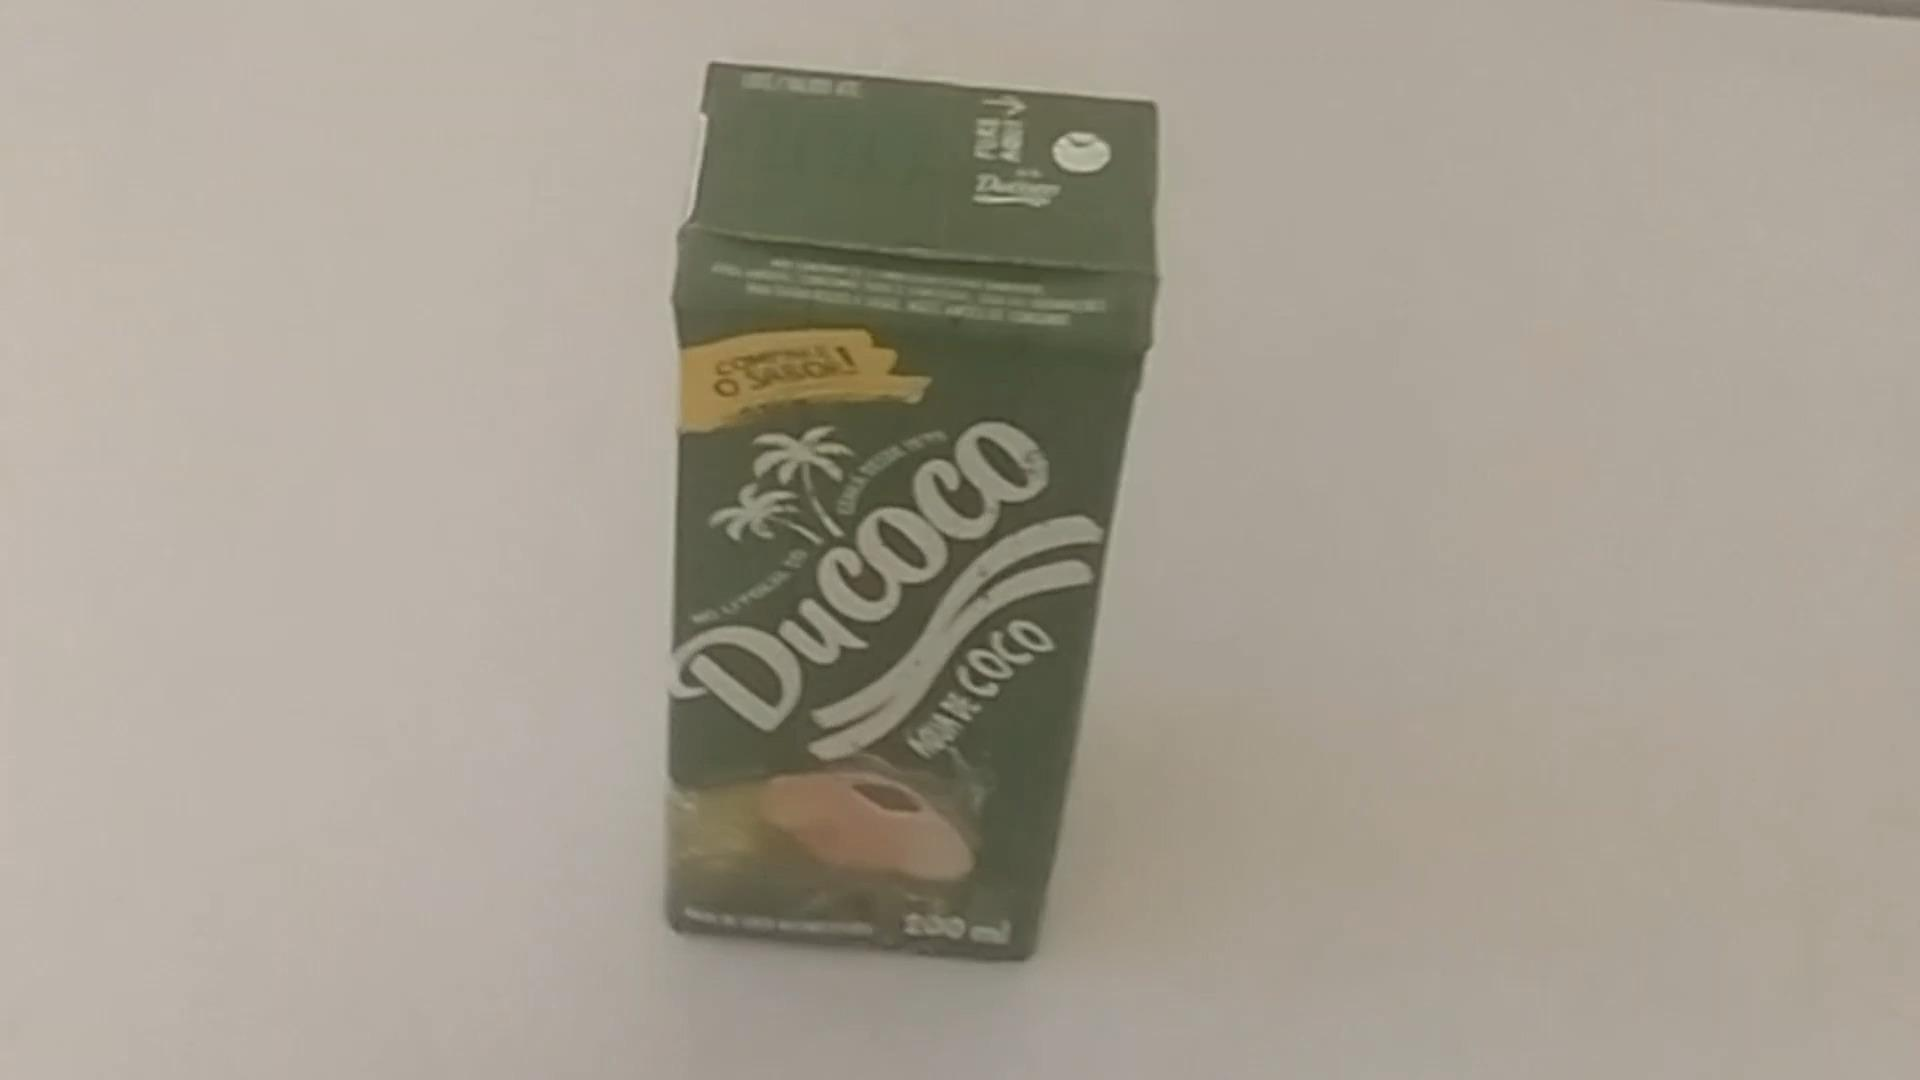coco: (658, 63, 1159, 975)
